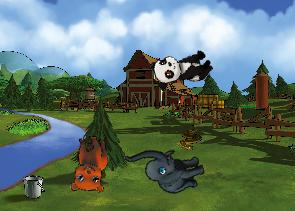bear: (64, 133, 111, 195)
elephant: (124, 129, 209, 207)
panda: (149, 45, 215, 91)
